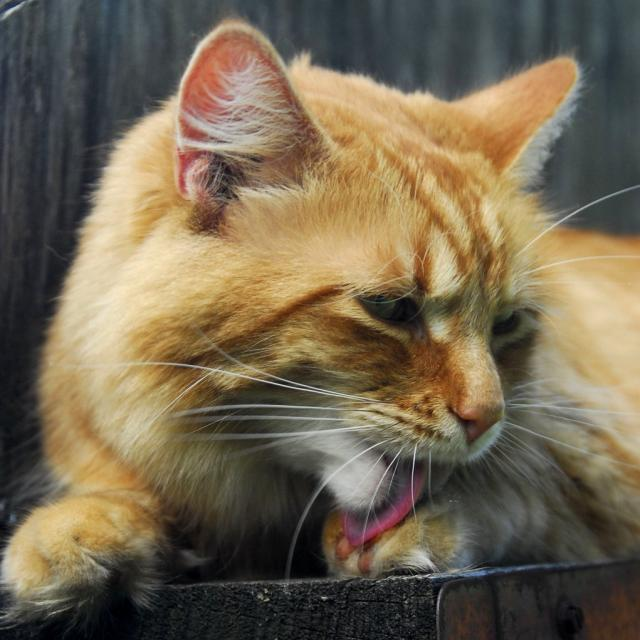Cat: (9, 21, 639, 626)
